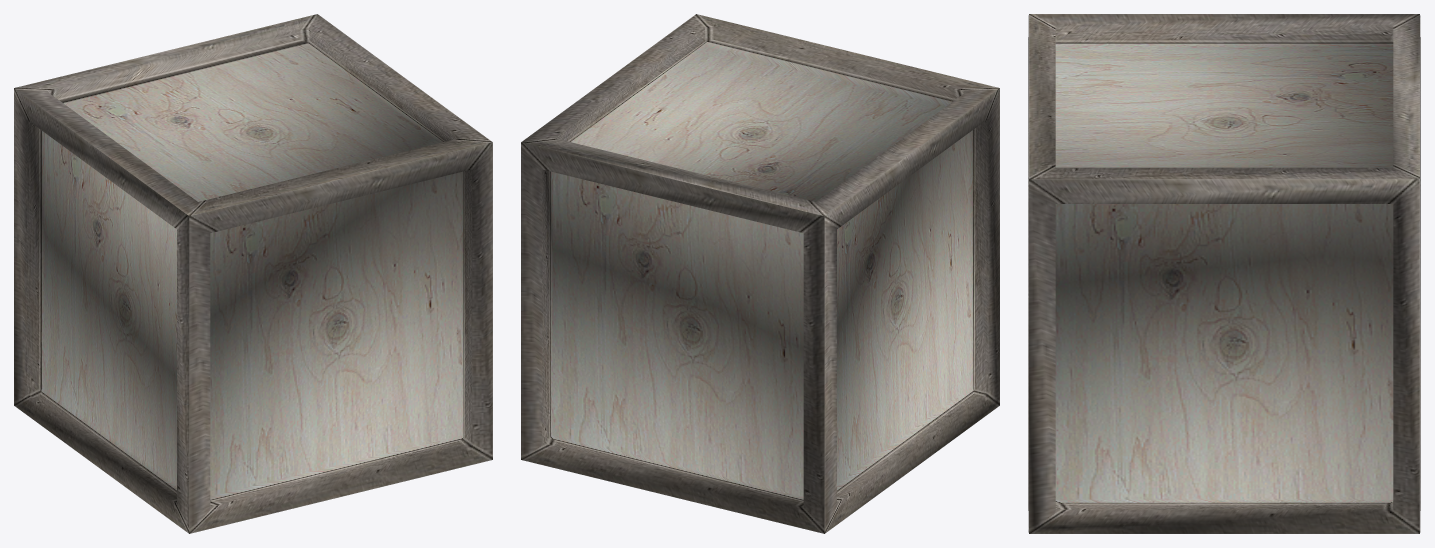
3 renders of one model, left to right at view 1: azimuth 30°, elevation 25°; view 2: azimuth 150°, elevation 25°; view 3: azimuth 270°, elevation 25°, orthographic. The views are drawn at different scales.
Parts seen in each view (by area): view 1: U3DMesh; view 2: U3DMesh; view 3: U3DMesh.
Boxes of the visible parts, x1,y1,x2,y2 form: U3DMesh: (14,14,492,533); U3DMesh: (521,14,999,533); U3DMesh: (1028,14,1420,533).
Size of the model in its own units: 17.59 by 17.59 by 17.59.
